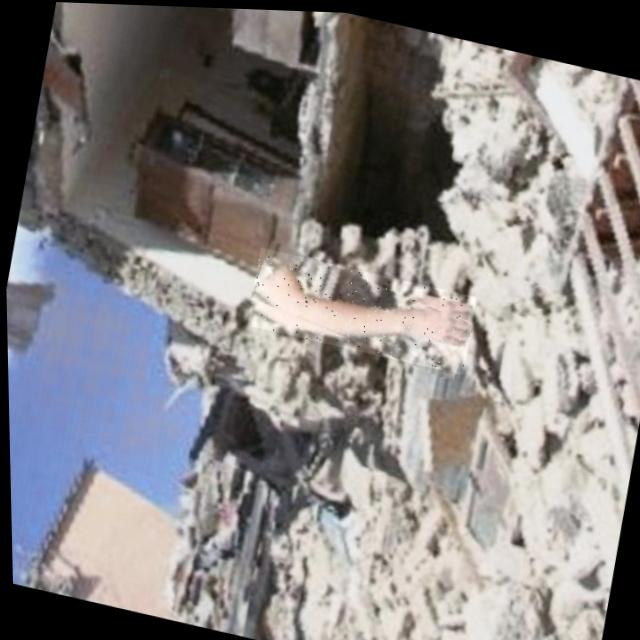Person in Rubble: (245, 244, 477, 371)
